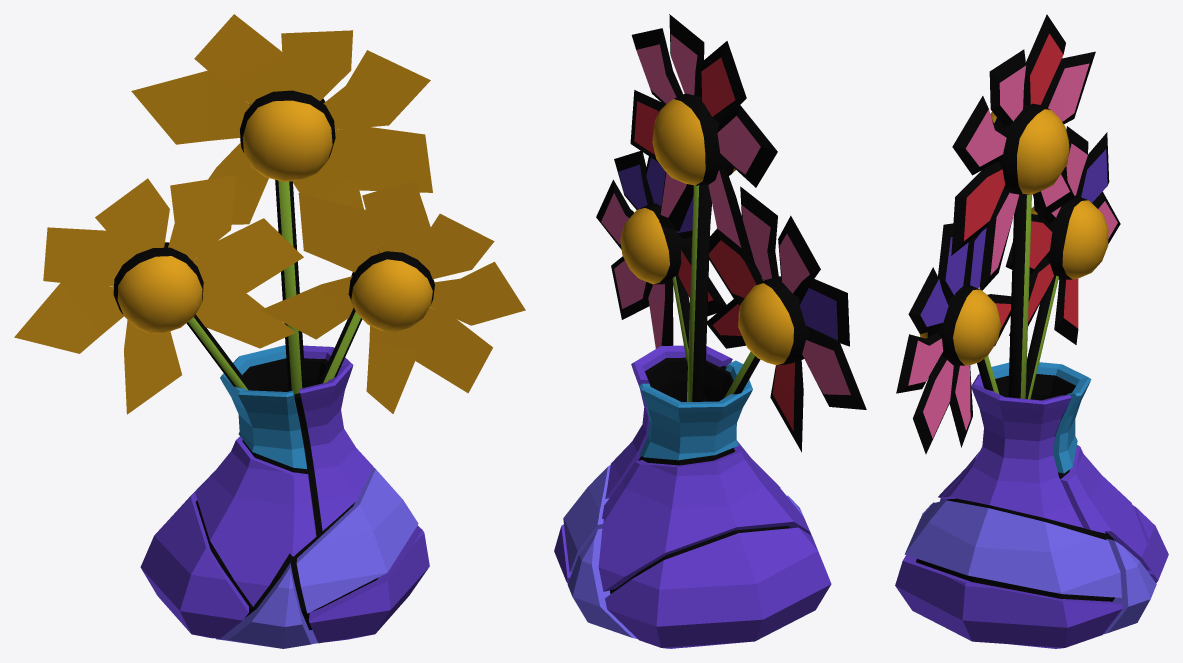
The model's file is El vaso.fbx.
The picture shows the model from 3 angles, left to right: view 1: azimuth 30°, elevation 25°; view 2: azimuth 150°, elevation 25°; view 3: azimuth 270°, elevation 25°; orthographic projection. The views are drawn at different scales.
Parts seen in each view (by area): view 1: Cube.005, Cube.019; view 2: Cube.005, Cube.019; view 3: Cube.005, Cube.019.
Boxes of the visible parts, bbox=[...] form: Cube.005: bbox=[14, 175, 525, 648]; Cube.019: bbox=[131, 14, 432, 224]; Cube.005: bbox=[554, 151, 866, 648]; Cube.019: bbox=[630, 14, 777, 267]; Cube.005: bbox=[895, 126, 1168, 648]; Cube.019: bbox=[951, 14, 1095, 290].
Size of the model in its own units: 95.47 by 141 by 59.65.
